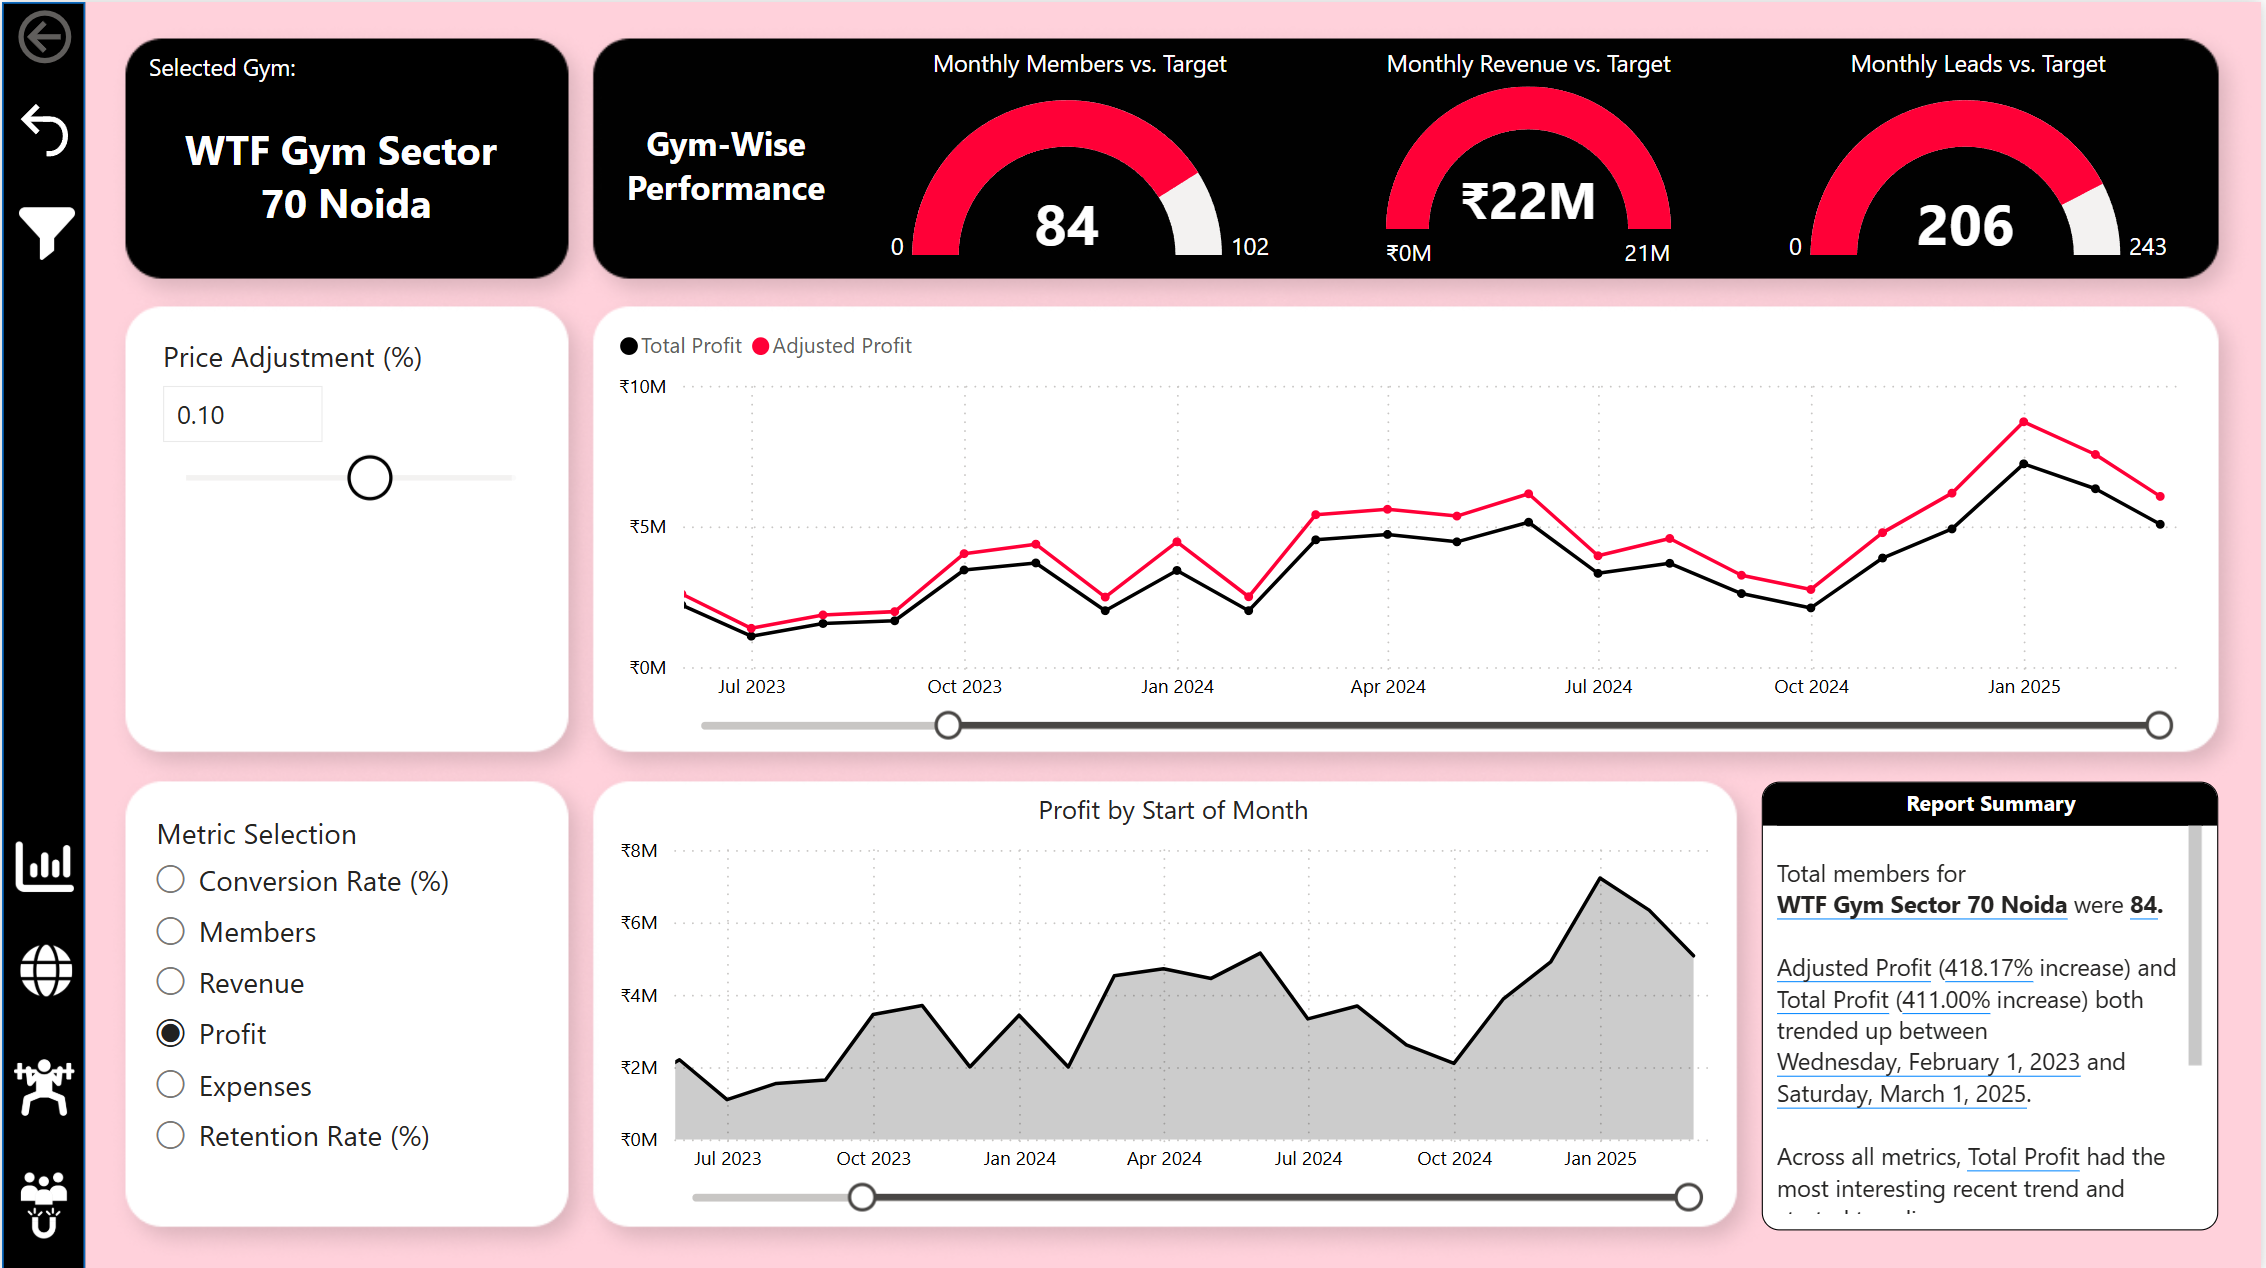

The dashboard page shown, as its layout file describes it:
{"tool":"powerbi","page":{"name":"Gym-Wise Performance","canvas":[1280,720],"ordinal":2},"visuals":[{"type":"card","fields":{"Values":["Min(gyms.gym_name)"]},"box":[78.6,34.3,234.3,124.3],"z":0},{"type":"textbox","box":[78.6,22.9,134.3,37.1],"z":1000},{"type":"gauge","title":"Monthly Members vs. Target","fields":{"Y":["KPI Measures.Total Members"],"MaxValue":["KPI Measures.Target Members"]},"box":[494,25,234.3,135.7],"z":2000},{"type":"gauge","title":"Monthly Revenue vs. Target","fields":{"Y":["KPI Measures.Total Revenue"],"MaxValue":["KPI Measures.Revenue Target"]},"box":[748.1,25,234,135.7],"z":3000},{"type":"gauge","title":"Monthly Leads vs. Target","fields":{"Y":["KPI Measures.Total Leads"],"MaxValue":["KPI Measures.Target Leads"]},"box":[1002.9,25,234.3,135.7],"z":4000},{"type":"shape","box":[344.3,32.1,131.4,121.4],"z":5000},{"type":"shape","box":[0,0,47.1,720],"z":6000},{"type":"image","box":[0,652.9,47.1,58.6],"z":7000},{"type":"image","box":[2,592,44,47],"z":8000},{"type":"image","box":[5,524,39,50],"z":9000},{"type":"image","box":[3,466,43,47],"z":10000},{"type":"actionButton","box":[4.3,0,47.1,40],"z":11000},{"type":"image","box":[1.4,105.7,47.1,50],"z":12000},{"type":"lineChart","fields":{"Category":["Calender Lookup.Date Hierarchy.Date","Calender Lookup.Date Hierarchy.Start of Month","Calender Lookup.Date Hierarchy.Start of Year"],"Y":["KPI Measures.Total Profit","KPI Measures.Adjusted Profit"]},"box":[344.3,175.7,904.3,245.7],"z":13000},{"type":"areaChart","fields":{"Y":["KPI Measures.Total Profit"],"Category":["Calender Lookup.Date Hierarchy.Start of Year","Calender Lookup.Date Hierarchy.Start of Month","Calender Lookup.Date Hierarchy.Start of Week","Calender Lookup.Date Hierarchy.Date"]},"box":[344.3,447.1,638.6,241.4],"z":14000},{"type":"slicer","fields":{"Values":["Price Adjustment (%) 2.Price Adjustment (%)"]},"box":[78.6,184.3,234.3,227.1],"z":15000},{"type":"slicer","fields":{"Values":["Metric Selection 2.Metric Selection"]},"box":[74.3,454.3,238.6,228.6],"z":16000},{"type":"textbox","title":"Report Summary","box":[997.1,441.4,258.6,254.3],"z":17000},{"type":"actionButton","box":[4.3,52.9,41.4,40],"z":18000}]}

Visuals, with their boxes on the page's 1280x720 design canvas (x1, y1, x2, y2). These are canvas units, not pixel positions in the 2266x1268 screenshot, which may show the page scaled, cropped or inside an application window:
card - Min(gyms.gym_name): (left=79, top=34, right=313, bottom=159)
textbox: (left=79, top=23, right=213, bottom=60)
"Monthly Members vs. Target" gauge: (left=494, top=25, right=728, bottom=161)
"Monthly Revenue vs. Target" gauge: (left=748, top=25, right=982, bottom=161)
"Monthly Leads vs. Target" gauge: (left=1003, top=25, right=1237, bottom=161)
shape: (left=344, top=32, right=476, bottom=154)
shape: (left=0, top=0, right=47, bottom=720)
image: (left=0, top=653, right=47, bottom=712)
image: (left=2, top=592, right=46, bottom=639)
image: (left=5, top=524, right=44, bottom=574)
image: (left=3, top=466, right=46, bottom=513)
actionButton: (left=4, top=0, right=51, bottom=40)
image: (left=1, top=106, right=48, bottom=156)
lineChart - Calender Lookup.Date Hierarchy.Date x Calender Lookup.Date Hierarchy.Start of Month: (left=344, top=176, right=1249, bottom=421)
areaChart - KPI Measures.Total Profit x Calender Lookup.Date Hierarchy.Start of Year: (left=344, top=447, right=983, bottom=688)
slicer - Price Adjustment (%) 2.Price Adjustment (%): (left=79, top=184, right=313, bottom=411)
slicer - Metric Selection 2.Metric Selection: (left=74, top=454, right=313, bottom=683)
"Report Summary" textbox: (left=997, top=441, right=1256, bottom=696)
actionButton: (left=4, top=53, right=46, bottom=93)
